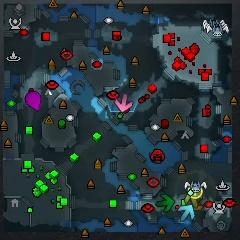Other: (190, 187, 204, 198)
p3: (25, 92, 41, 112)
x1: (115, 94, 133, 112)
x2: (185, 194, 198, 207)
x3: (179, 205, 194, 221)
x4: (156, 194, 175, 212)
x5: (187, 201, 204, 212)
